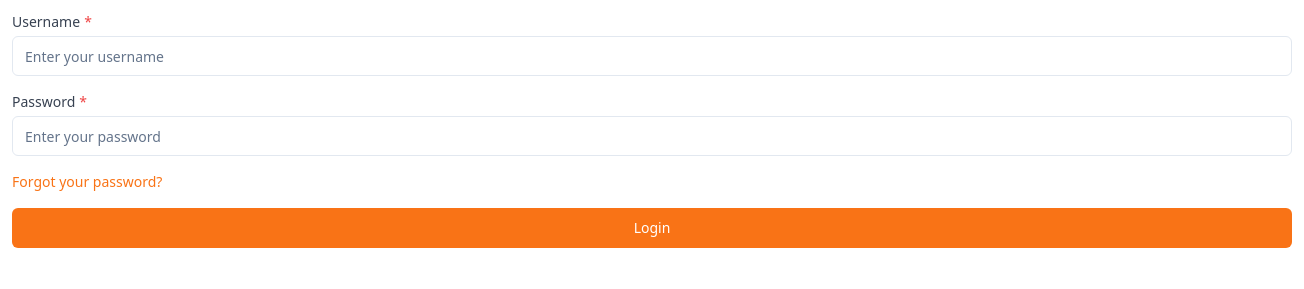
Test case: LoginForm › should show validation error when password is empty
Type "admin" into the field labelled "Username*" at x=652, y=56, box [12,36,1292,76]
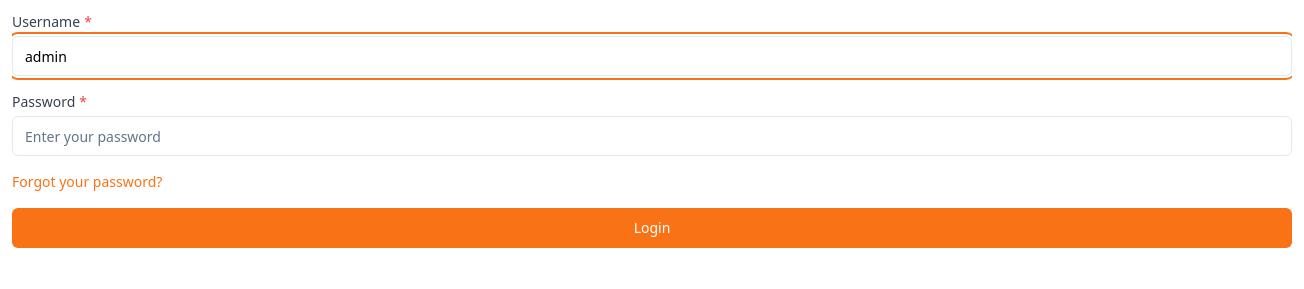
Click the button "Login" at x=652, y=228, box [12,208,1292,248]
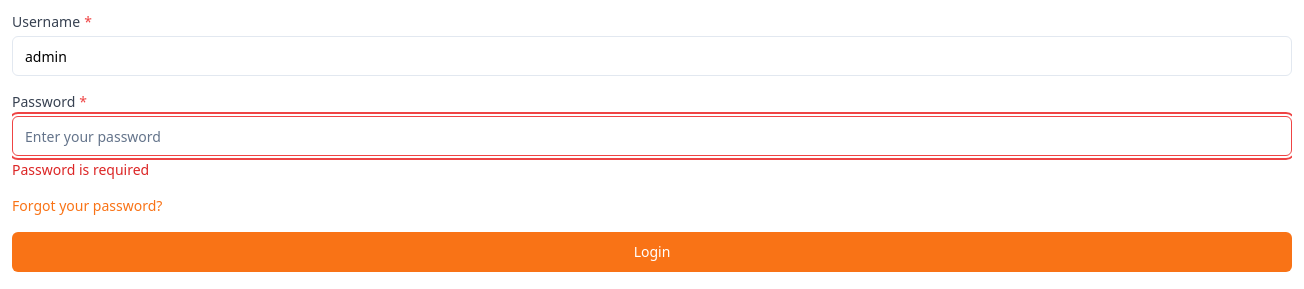
Expected: the text "Password is required" is shown, [12,160,149,179]
